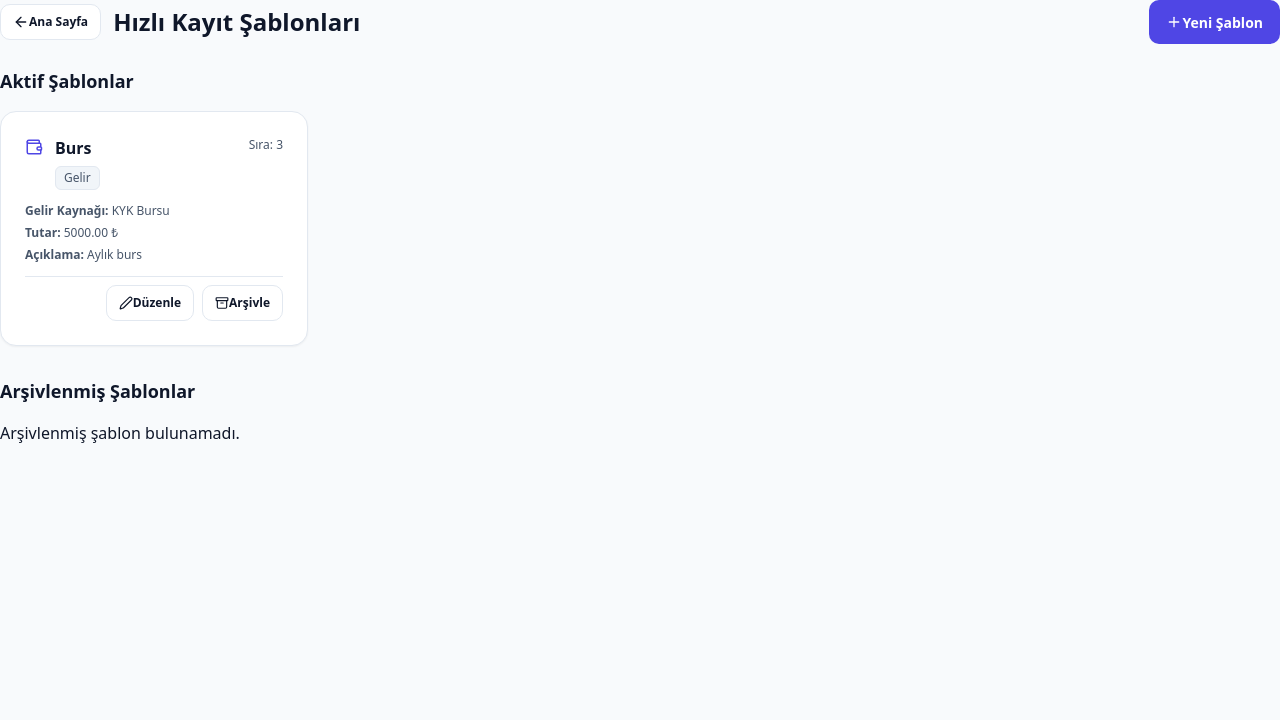
Template Management & Server Synchronization (Section 71-73) › R2 — INCOME template edit and save › R2: editing INCOME template shows immutable type, name, sortOrder, and income config fields
Click the button with test id "edit-template-btn-income-template": (150, 303) [106,285,194,321]
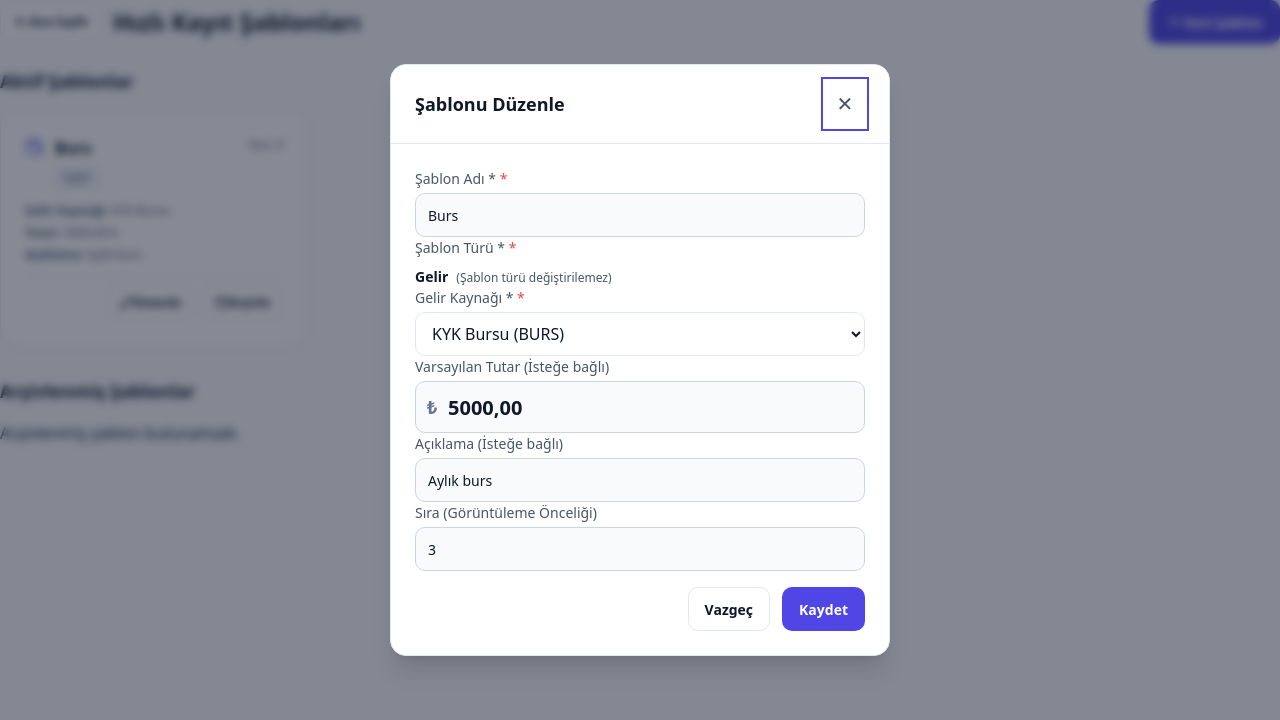
Expected: the element with test id "immutable-template-type" shows "Gelir", [415,267,448,286]
Expected: the field with test id "tpl-name-input" is shown, [415,193,865,237]
Expected: the number field with test id "tpl-sort-order-input" is shown, [415,527,865,571]
